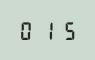five: (57, 20, 75, 40)
one: (38, 20, 56, 40)
zero: (18, 20, 36, 40)
